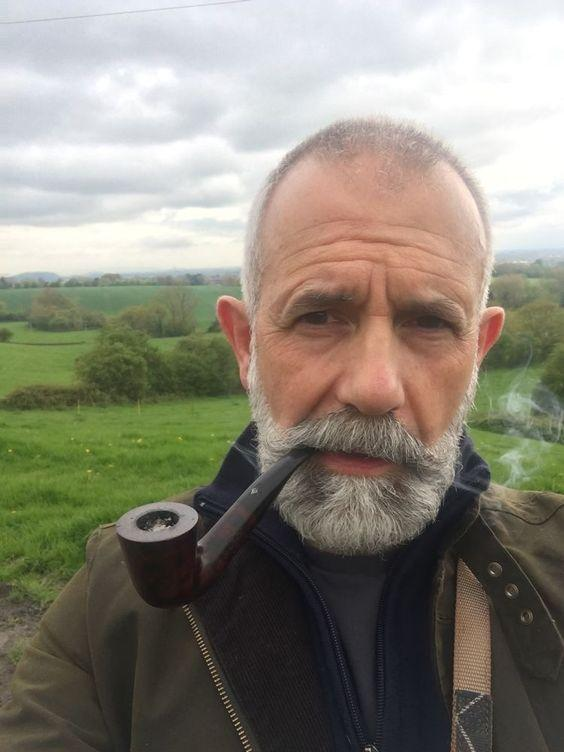trubka: (116, 448, 314, 607)
